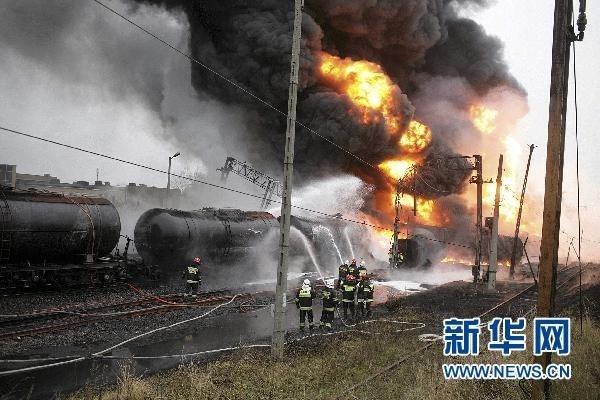fire: (324, 52, 437, 241)
